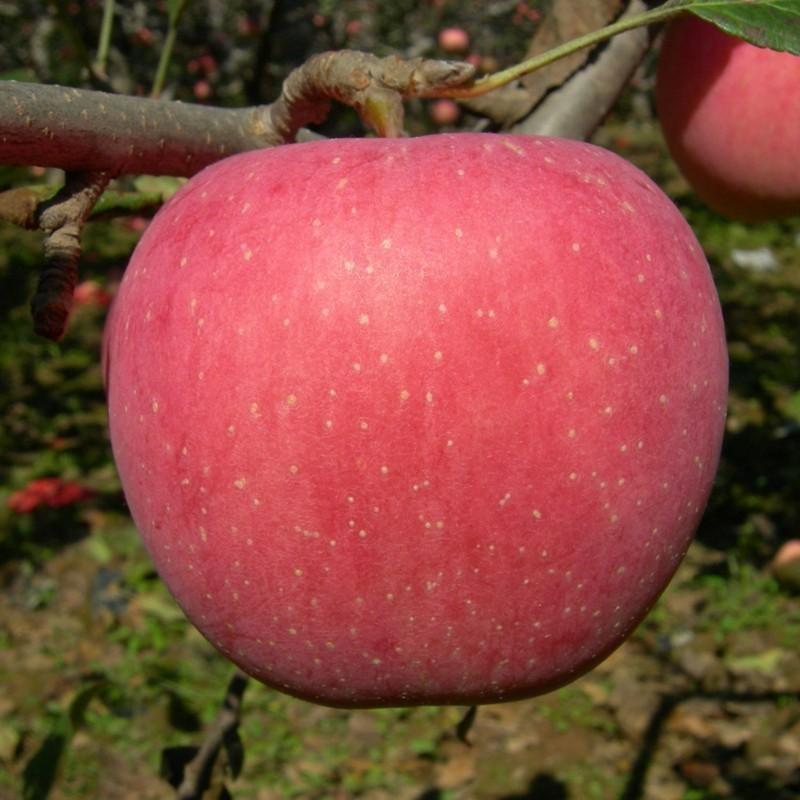apple: (103, 138, 727, 704), (651, 13, 800, 217)
